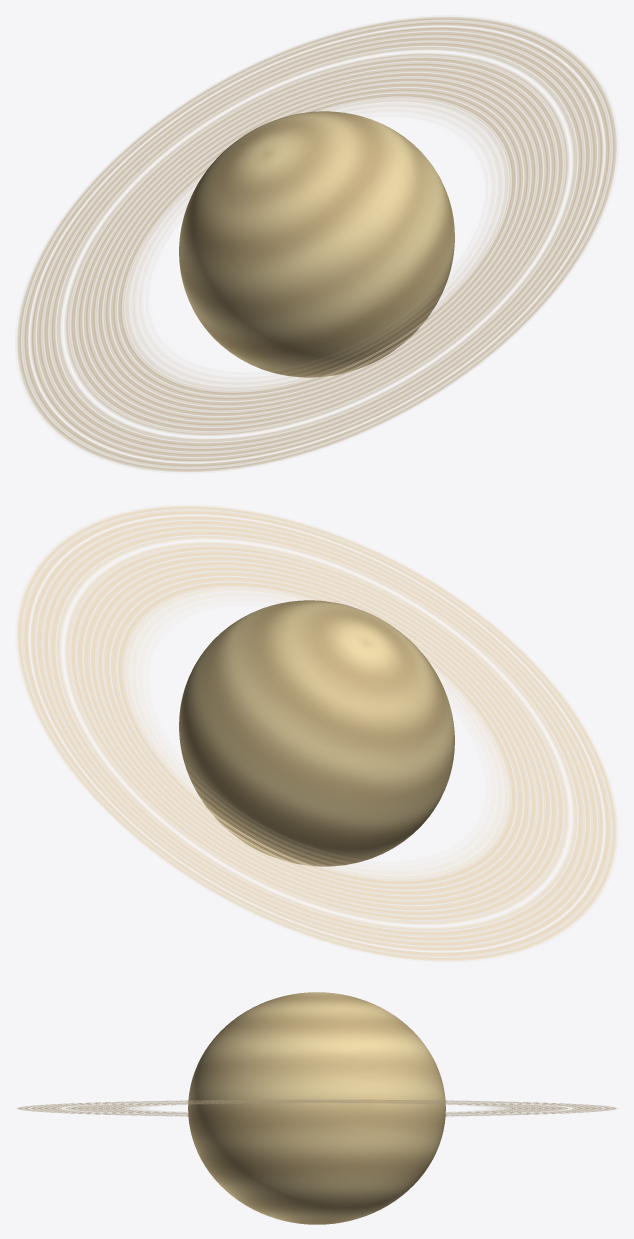
Rendered from saturn.glb.
The picture shows the model from 3 angles, top to bottom: view 1: azimuth 30°, elevation 25°; view 2: azimuth 150°, elevation 25°; view 3: azimuth 270°, elevation 25°; orthographic projection. The views are drawn at different scales.
Visible parts, largest first — view 1: saturno_aneis, saturno_planeta; view 2: saturno_aneis, saturno_planeta; view 3: saturno_planeta, saturno_aneis.
Part boxes in pixels (x1,y1,x2,y2): saturno_aneis: [17, 17, 616, 471]; saturno_planeta: [179, 111, 454, 377]; saturno_aneis: [17, 506, 616, 960]; saturno_planeta: [179, 600, 454, 866]; saturno_planeta: [188, 992, 445, 1224]; saturno_aneis: [17, 1099, 616, 1116].
Bounding box in the file's own units: 4.2 × 2.11 × 4.7.
Materials: 2 (2 with a texture image).
